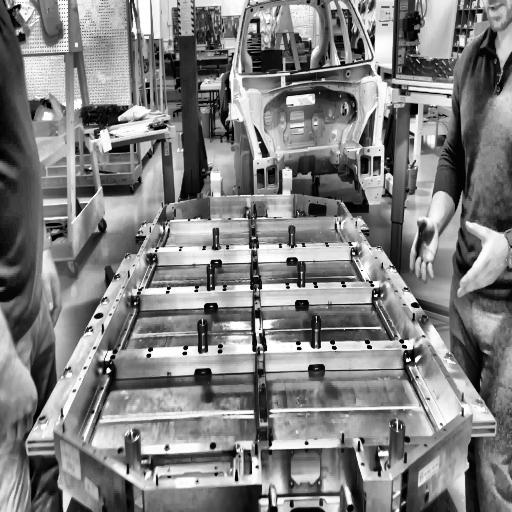b_casing: (26, 191, 495, 493)
